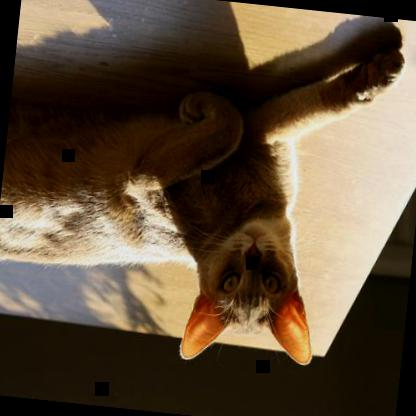cat: (0, 6, 407, 379)
